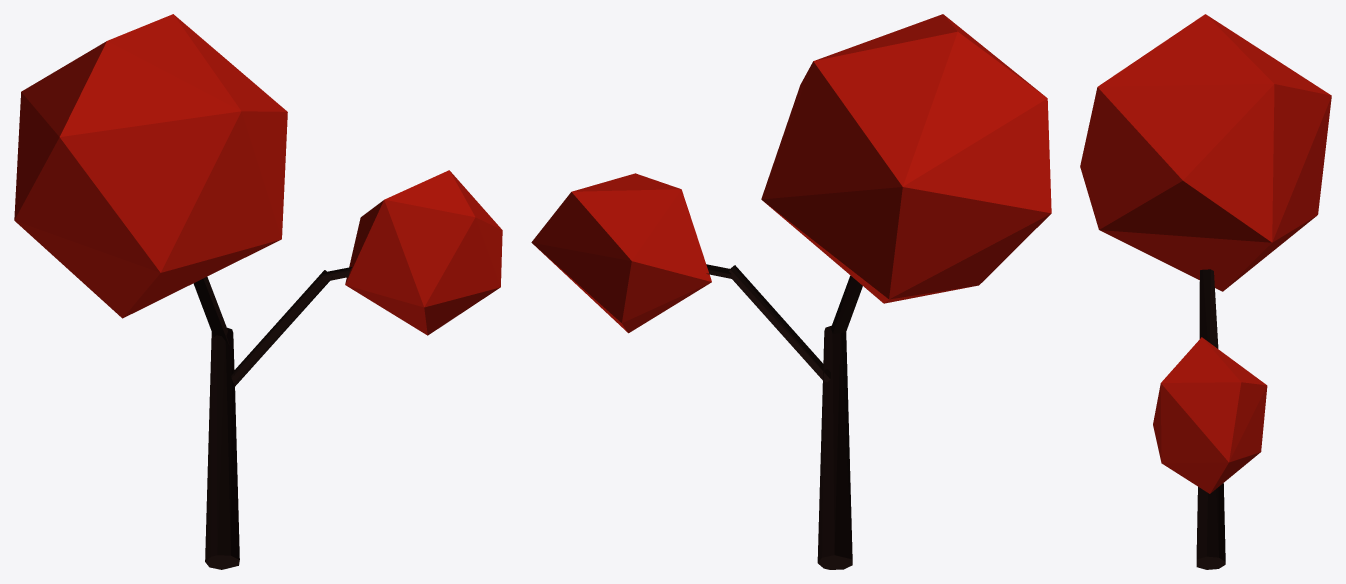
Rendered from autumntree_1.obj.
3 renders of one model, left to right at view 1: azimuth 30°, elevation 25°; view 2: azimuth 150°, elevation 25°; view 3: azimuth 270°, elevation 25°, orthographic. The views are drawn at different scales.
Visible parts, largest first — view 1: Cylinder.003; view 2: Cylinder.003; view 3: Cylinder.003.
Part boxes in pixels (box(x1,y1,x2,y2)): Cylinder.003: box(14, 14, 502, 569); Cylinder.003: box(531, 14, 1051, 569); Cylinder.003: box(1080, 14, 1331, 569).
Bounding box in the file's own units: 3.33 × 3.51 × 1.61.
